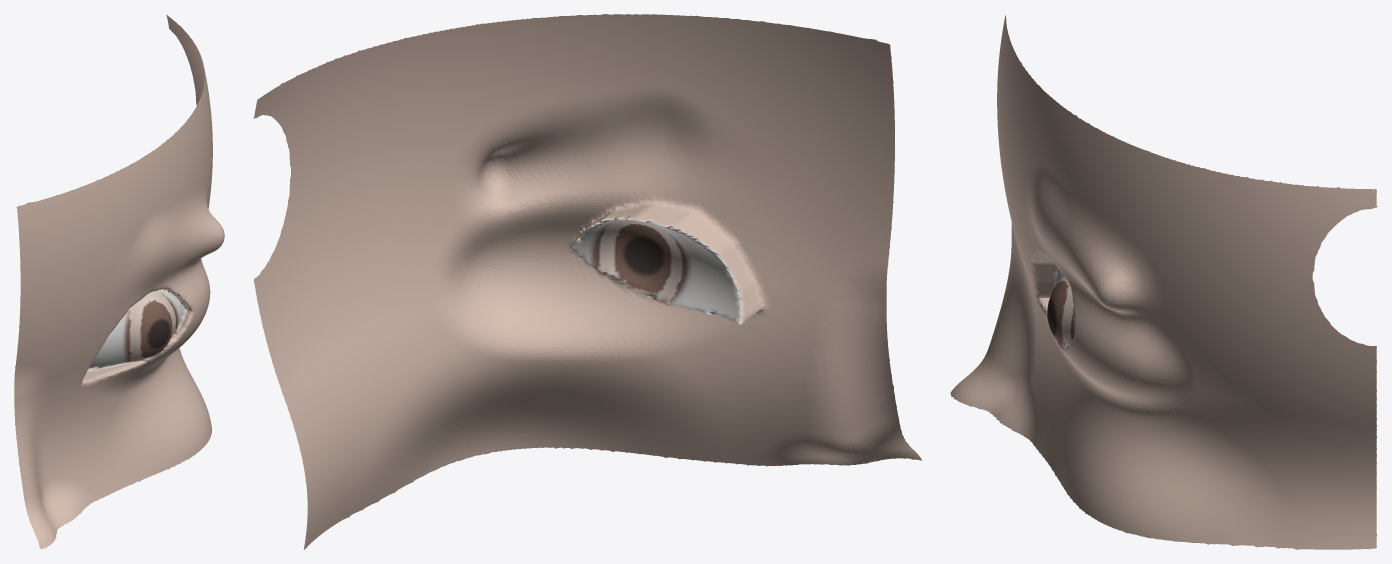
File: eye_patch_anatomical_EXPERIMENT.glb
3 renders of one model, left to right at view 1: azimuth 30°, elevation 25°; view 2: azimuth 150°, elevation 25°; view 3: azimuth 270°, elevation 25°, orthographic. The views are drawn at different scales.
Visible parts, largest first — view 1: geometry_0; view 2: geometry_0; view 3: geometry_0.
Boxes of the visible parts, left/top/right/bottom form: geometry_0: left=14, top=14, right=224, bottom=549; geometry_0: left=253, top=14, right=921, bottom=549; geometry_0: left=950, top=15, right=1377, bottom=549.
Size of the model in its own units: 1.1 by 1.1 by 1.12.
